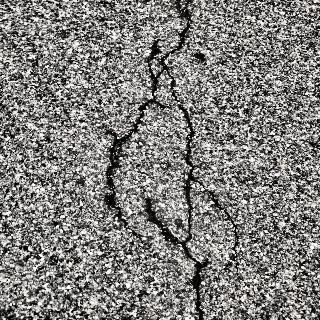crack: (98, 1, 228, 320)
